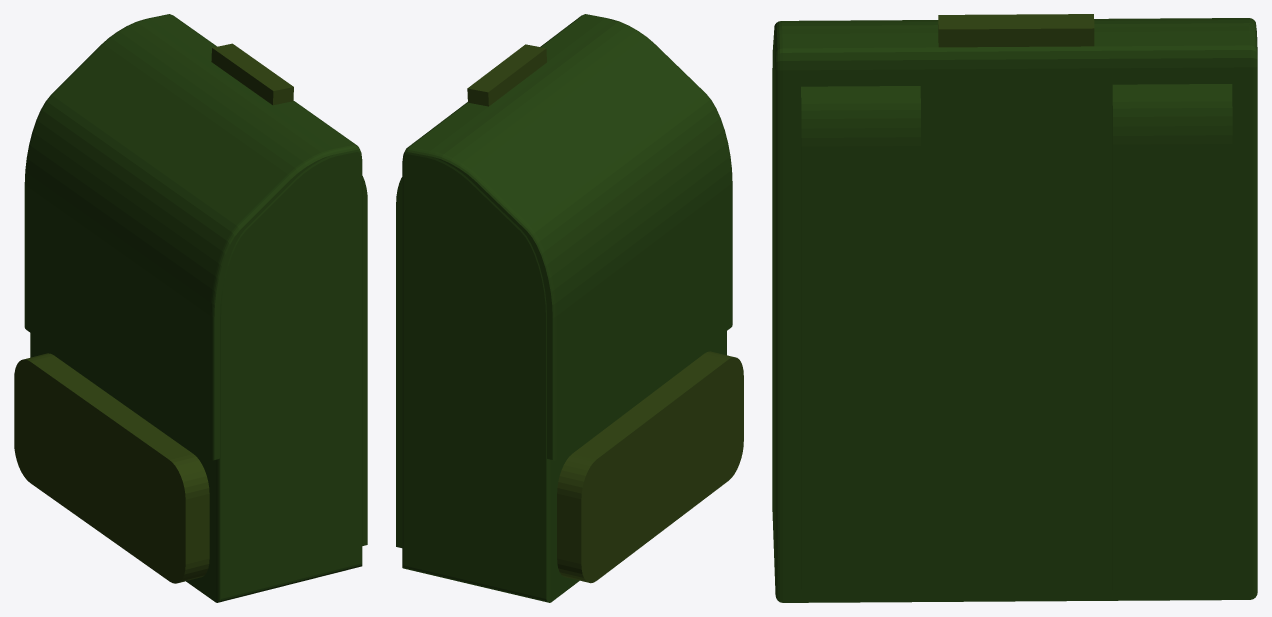
The model's file is Bag.fbx.
The picture shows the model from 3 angles, left to right: view 1: azimuth 30°, elevation 25°; view 2: azimuth 150°, elevation 25°; view 3: azimuth 270°, elevation 25°; orthographic projection. The views are drawn at different scales.
Parts seen in each view (by area): view 1: bag; view 2: bag; view 3: bag.
Part boxes in pixels (left/top/right/bottom): bag: left=14, top=14, right=367, bottom=602; bag: left=396, top=14, right=743, bottom=602; bag: left=772, top=14, right=1257, bottom=602.
Size of the model in its own units: 20.59 by 45.6 by 35.18.
